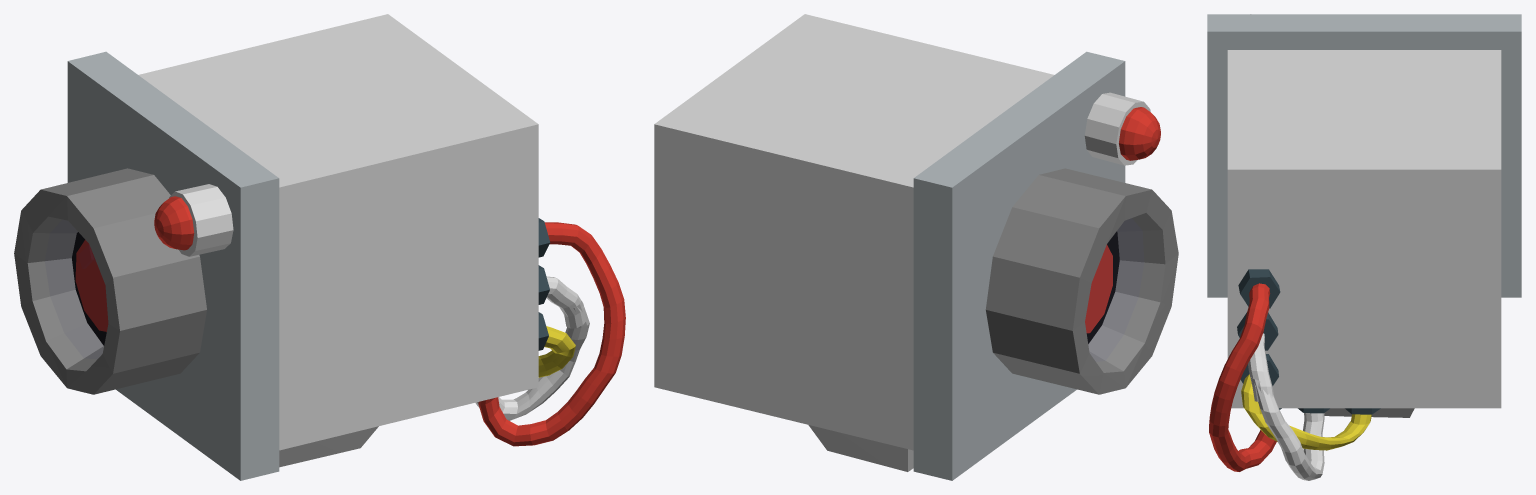
3 renders of one model, left to right at view 1: azimuth 30°, elevation 25°; view 2: azimuth 150°, elevation 25°; view 3: azimuth 270°, elevation 25°, orthographic. The views are drawn at different scales.
Visible parts, largest first — view 1: node_MeshObject-814824832-PolyPaper8; view 2: node_MeshObject-814824832-PolyPaper8; view 3: node_MeshObject-814824832-PolyPaper8.
Boxes of the visible parts, <box> form: node_MeshObject-814824832-PolyPaper8: <box>14,14,625,480</box>; node_MeshObject-814824832-PolyPaper8: <box>654,14,1178,480</box>; node_MeshObject-814824832-PolyPaper8: <box>1207,14,1521,480</box>.
Size of the model in its own units: 0.4979 by 0.3501 by 0.31.
